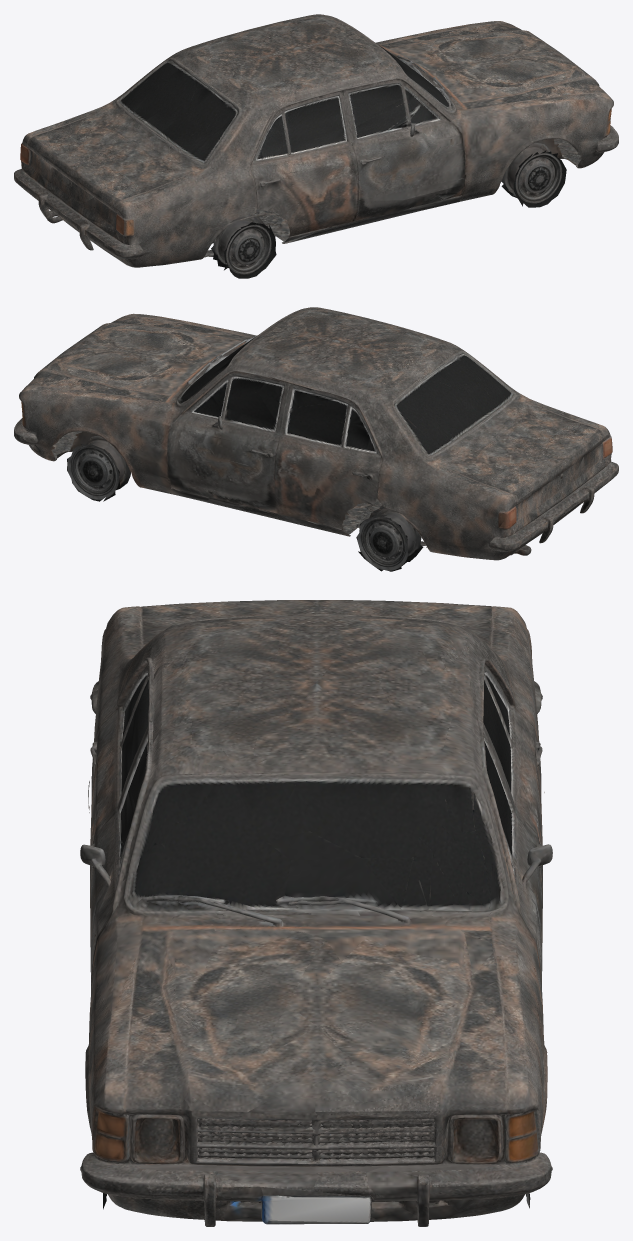
The model's file is gaucho-v8-queimado__01a16dcf.glb.
3 views of the same model, one above another, from view 1: azimuth 30°, elevation 25°; view 2: azimuth 150°, elevation 25°; view 3: azimuth 270°, elevation 25° (orthographic). The views are drawn at different scales.
Parts seen in each view (by area): view 1: gaucho-v8-queimado; view 2: gaucho-v8-queimado; view 3: gaucho-v8-queimado.
Boxes of the visible parts, bbox=[...] form: gaucho-v8-queimado: bbox=[14, 14, 618, 278]; gaucho-v8-queimado: bbox=[14, 307, 618, 571]; gaucho-v8-queimado: bbox=[80, 600, 552, 1226].
Bounding box in the file's own units: 4.58 × 1.43 × 1.82.
Materials: 1 (1 with a texture image).
